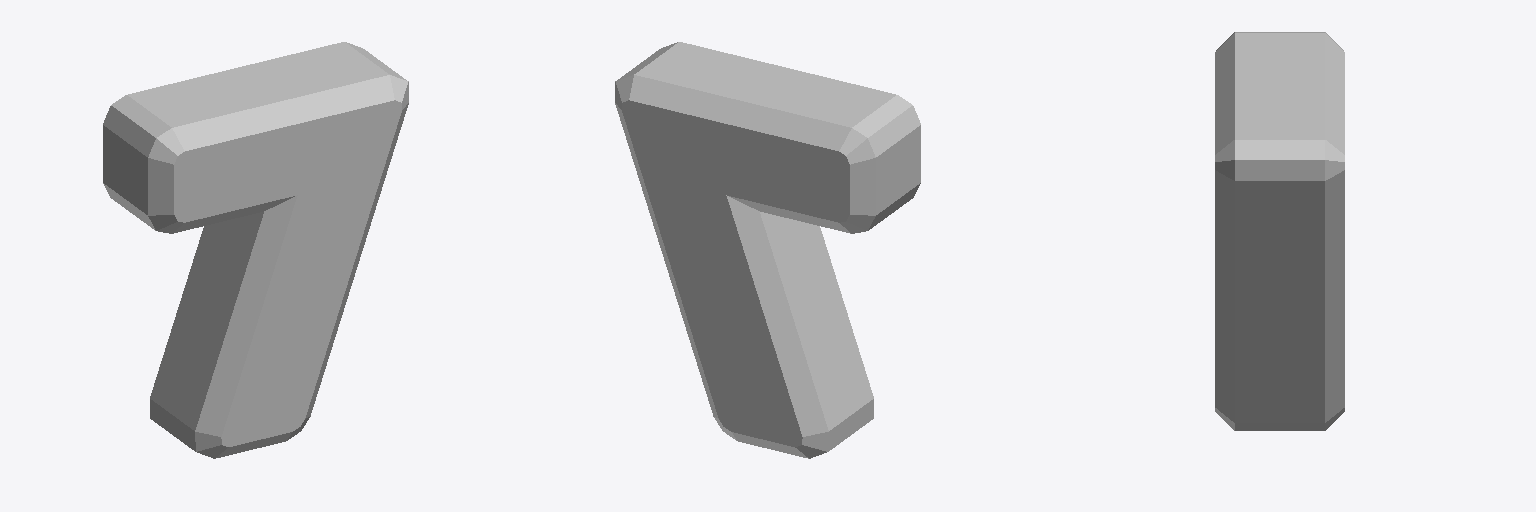
Rendered from fullStomach7.obj.
The picture shows the model from 3 angles: view 1: azimuth 30°, elevation 25°; view 2: azimuth 150°, elevation 25°; view 3: azimuth 270°, elevation 25°; orthographic projection.
Parts seen in each view (by area): view 1: テキスト; view 2: テキスト; view 3: テキスト.
Part boxes in pixels (left/top/right/bottom): テキスト: left=103, top=42, right=408, bottom=458; テキスト: left=615, top=42, right=920, bottom=458; テキスト: left=1215, top=32, right=1344, bottom=430.
Bounding box in the file's own units: 1.73 × 2.16 × 0.74.